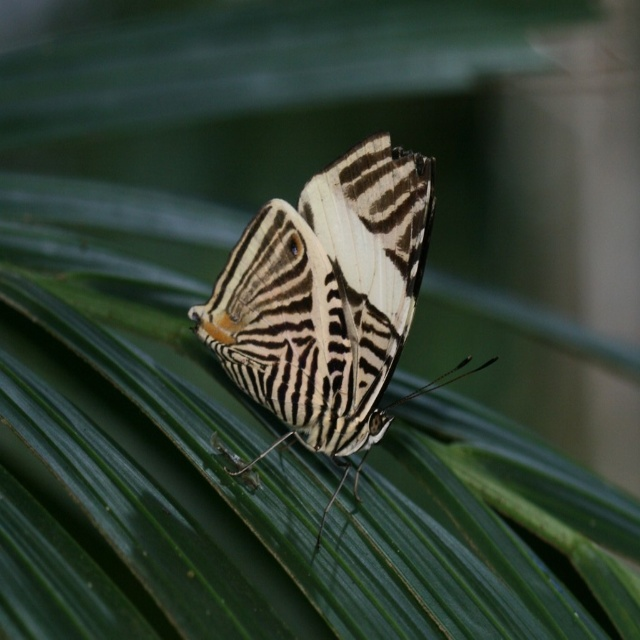Butterfly: (183, 130, 489, 538)
